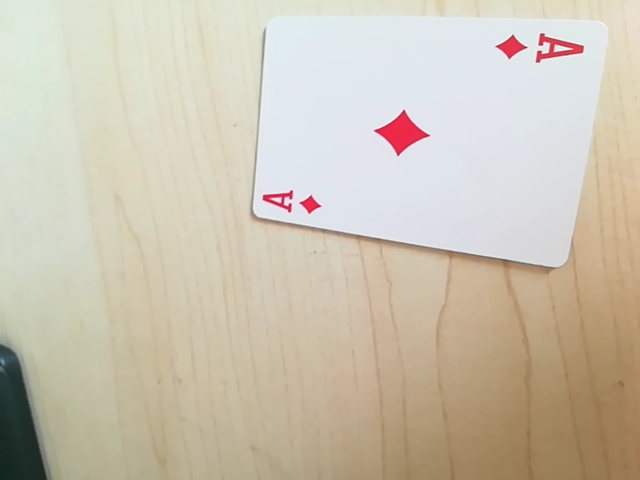fk a: (495, 24, 589, 70), (256, 183, 326, 221)
